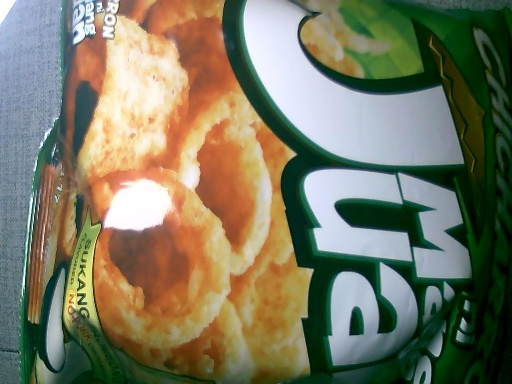plastic: (39, 5, 501, 382)
